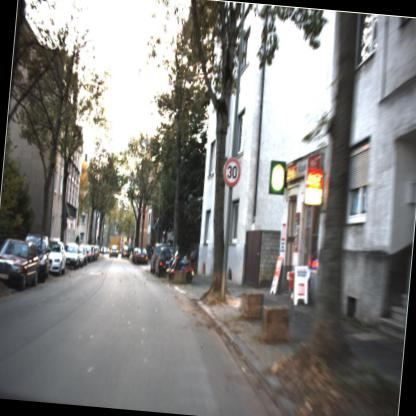prohibitory: (220, 154, 243, 191)
